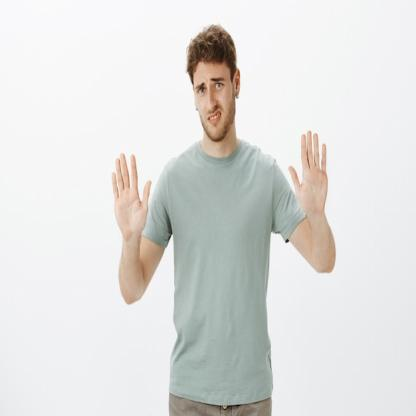stop: (287, 128, 330, 227), (110, 150, 153, 244)
